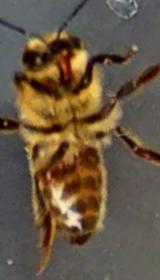varroa_mite: (29, 160, 62, 185)
